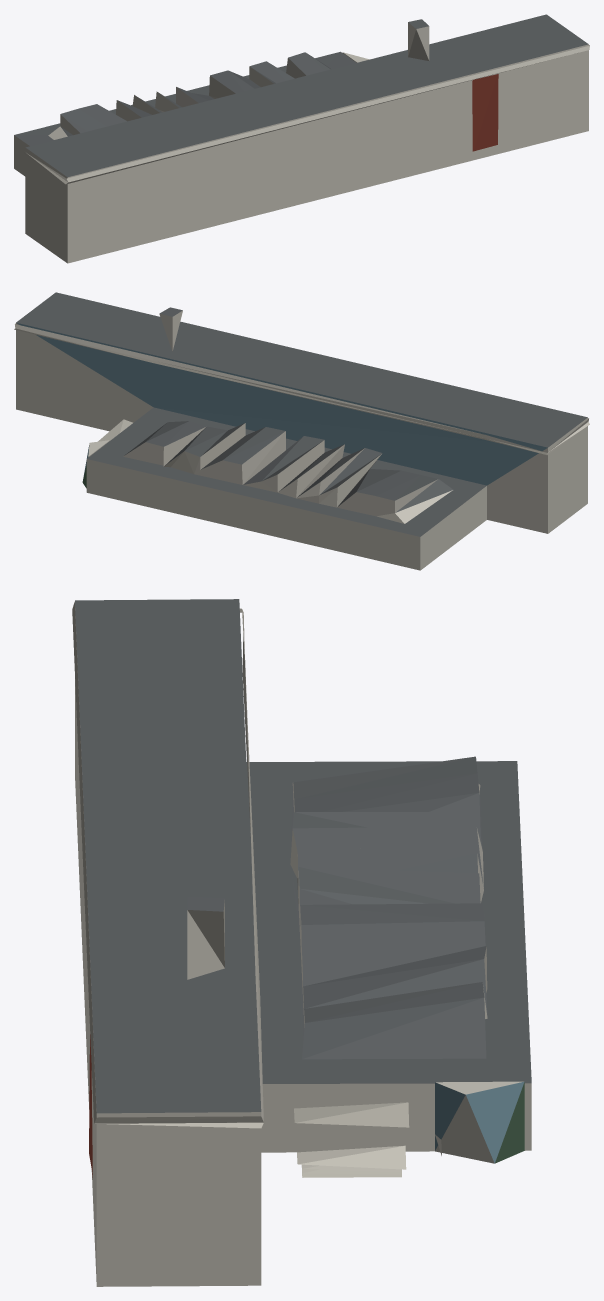
The model's file is de-school.lod2.glb.
3 views of the same model, one above another, from view 1: azimuth 30°, elevation 25°; view 2: azimuth 150°, elevation 25°; view 3: azimuth 270°, elevation 25° (orthographic). The views are drawn at different scales.
Visible parts, largest first — view 1: lod2; view 2: lod2; view 3: lod2.
Part boxes in pixels (left/top/right/bottom): lod2: left=14, top=14, right=589, bottom=263; lod2: left=14, top=292, right=589, bottom=570; lod2: left=72, top=599, right=531, bottom=1286.
Size of the model in its own units: 83.23 by 18.31 by 31.27.
